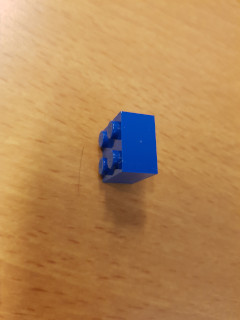2x2 blue: (98, 109, 160, 187)
